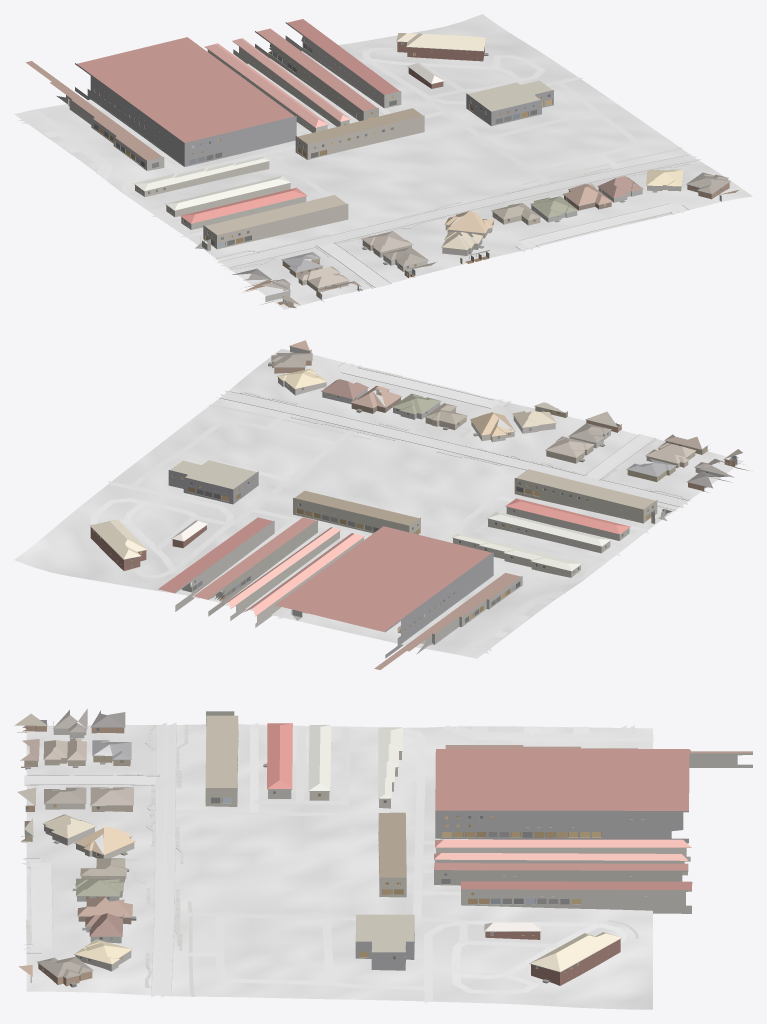
3 views of the same model, one above another, from view 1: azimuth 30°, elevation 25°; view 2: azimuth 150°, elevation 25°; view 3: azimuth 270°, elevation 25° (orthographic). The views are drawn at different scales.
Parts seen in each view (by area): view 1: ground, roof_flat, roof, wall_com, concrete, wall_stucco, asphalt, wall, detail, curb, walk, glass (+2 smaller); view 2: ground, roof_flat, roof, concrete, wall_com, wall_stucco, asphalt, wall, detail, walk, curb, glass (+2 smaller); view 3: ground, roof_flat, roof, concrete, wall_com, asphalt, wall_stucco, wall, detail, walk, glass_lit, curb (+2 smaller).
Part boxes in pixels (bbox=[...]): ground: bbox=[14, 14, 752, 309]; roof_flat: bbox=[25, 19, 552, 235]; roof: bbox=[134, 33, 739, 304]; wall_com: bbox=[57, 22, 553, 251]; concrete: bbox=[18, 47, 685, 287]; wall_stucco: bbox=[135, 46, 642, 271]; asphalt: bbox=[216, 155, 700, 267]; wall: bbox=[244, 42, 729, 301]; detail: bbox=[94, 39, 730, 300]; curb: bbox=[219, 154, 698, 288]; walk: bbox=[215, 45, 689, 287]; glass: bbox=[94, 39, 721, 297]; ground: bbox=[14, 349, 743, 658]; roof_flat: bbox=[158, 460, 655, 669]; roof: bbox=[90, 340, 742, 616]; concrete: bbox=[90, 363, 655, 656]; wall_com: bbox=[168, 470, 657, 658]; wall_stucco: bbox=[230, 389, 629, 627]; asphalt: bbox=[220, 390, 688, 507]; wall: bbox=[90, 361, 749, 570]; detail: bbox=[90, 346, 739, 631]; walk: bbox=[138, 368, 689, 609]; curb: bbox=[219, 362, 690, 510]; glass: bbox=[93, 387, 707, 623]; ground: bbox=[26, 724, 652, 1009]; roof_flat: bbox=[205, 715, 752, 952]; roof: bbox=[14, 708, 691, 978]; concrete: bbox=[21, 722, 653, 1002]; wall_com: bbox=[205, 711, 752, 970]; asphalt: bbox=[151, 722, 176, 997]; wall_stucco: bbox=[45, 751, 690, 943]; wall: bbox=[17, 724, 620, 986]; detail: bbox=[21, 721, 691, 987]; walk: bbox=[26, 725, 638, 996]; glass_lit: bbox=[34, 723, 601, 969]; curb: bbox=[24, 724, 180, 995].
Size of the model in its own units: 262 by 20.38 by 295.
